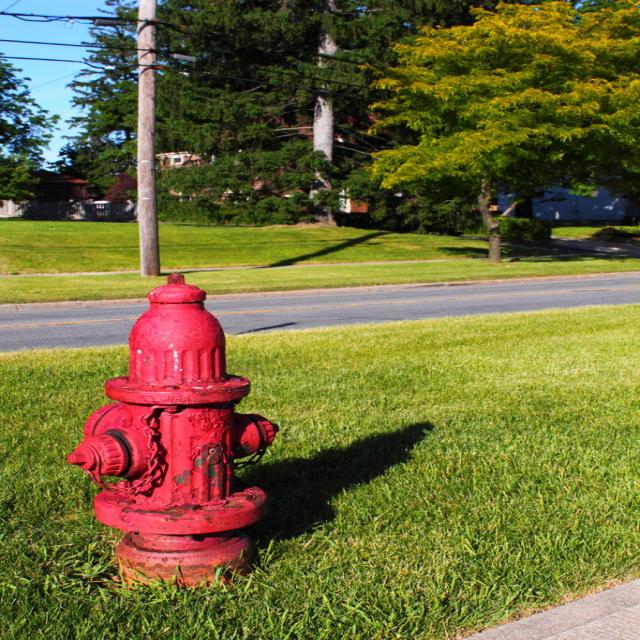fire_hydrant: (70, 275, 274, 585)
